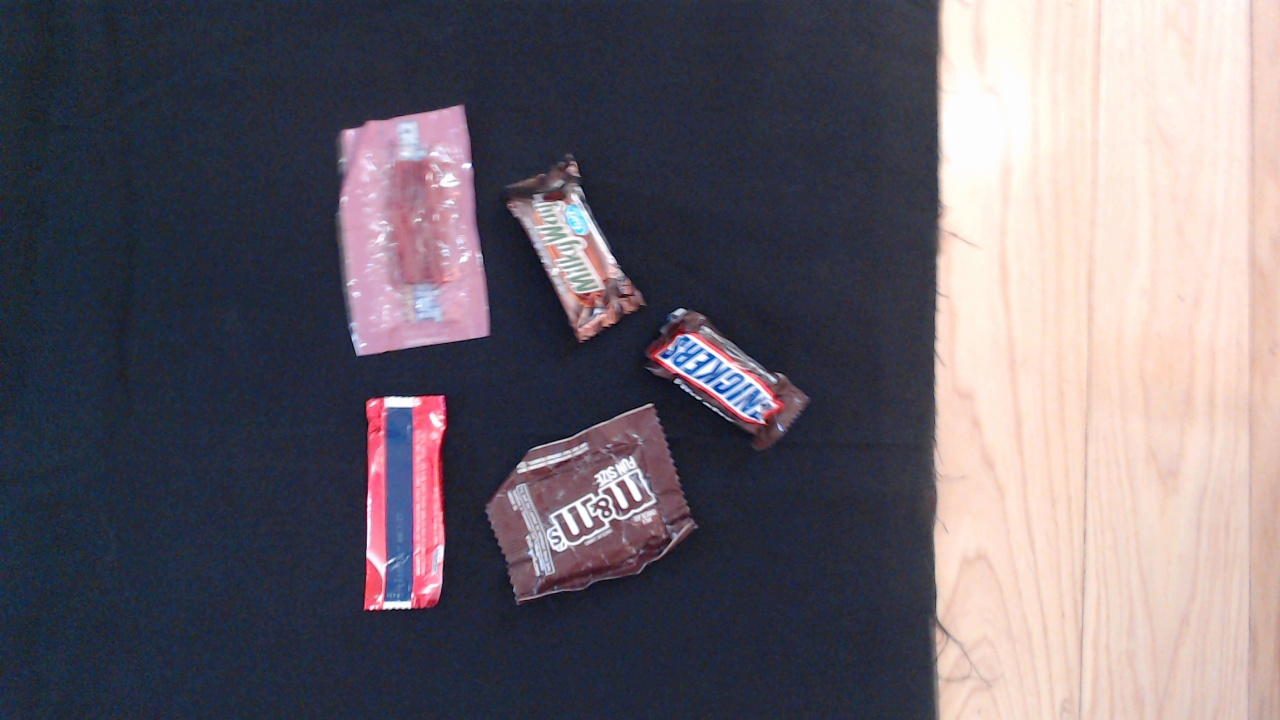MMs_peanut: (481, 397, 728, 594)
milky_way: (516, 163, 644, 361)
snickers: (643, 294, 823, 472)
starbust: (345, 379, 454, 615)
twizzlers: (310, 81, 512, 352)
